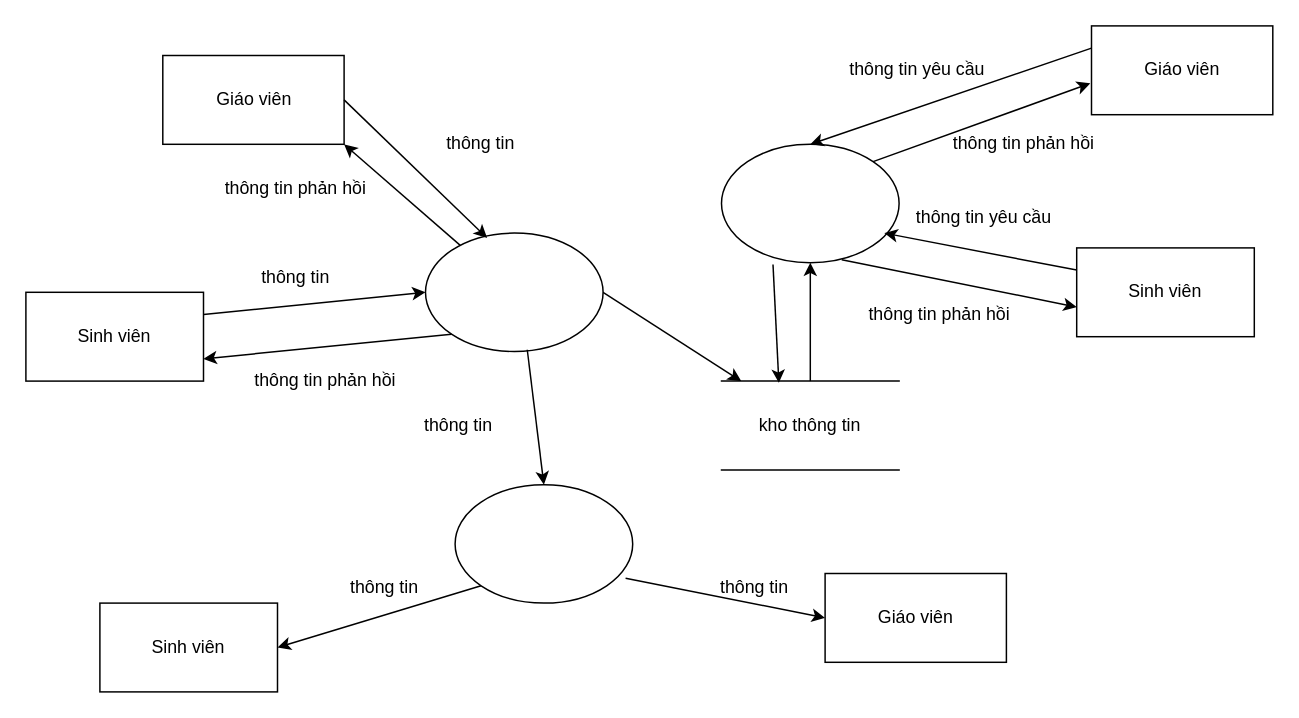
Image size: 1299x718. Some labels were removed from this diagram. The shapes that lost their labels are listed below. From the top down, each one's box as (x1, y1, x2, y2) in pixels, then its label:
(720, 143, 899, 263): Xem sửa xóa thông báo
(424, 232, 603, 352): Tạo thông báo
(454, 483, 633, 603): Hiện thông báo mới
